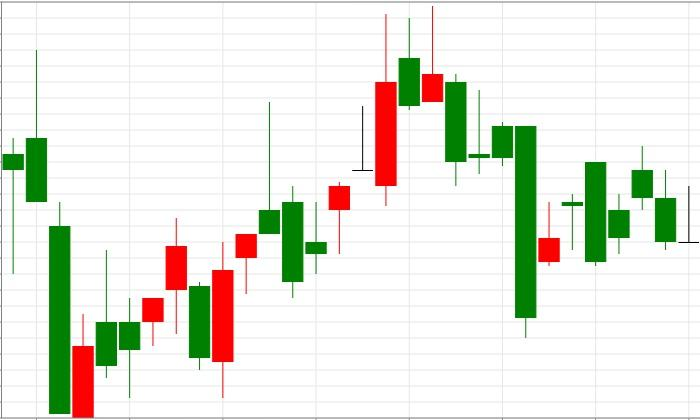shooting_star_fall: (281, 5, 443, 298)
